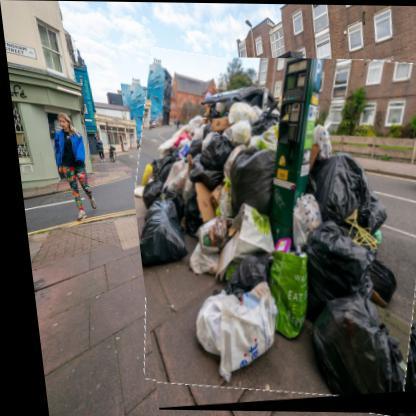Garbage: (117, 56, 416, 415)
